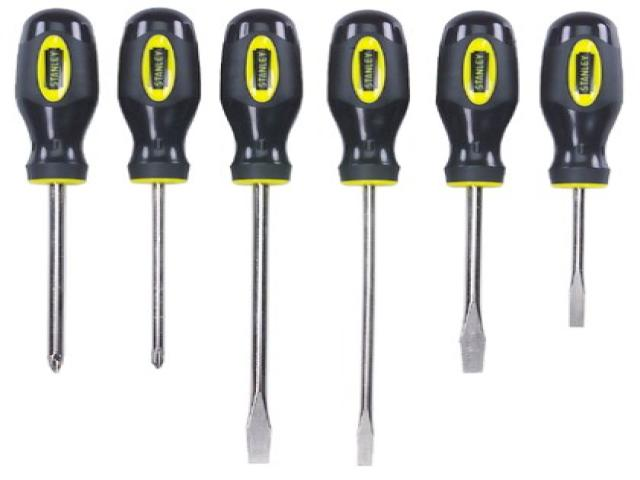Screwdriver: (327, 10, 409, 465), (220, 9, 302, 463), (15, 8, 98, 372), (118, 8, 201, 368), (436, 11, 518, 373), (540, 12, 622, 327)
